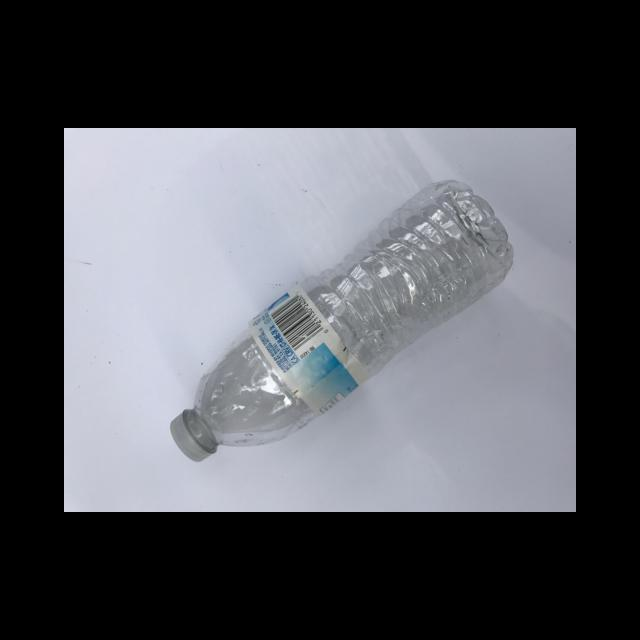plastic: (168, 180, 512, 462), (246, 282, 368, 418), (167, 408, 217, 461)
